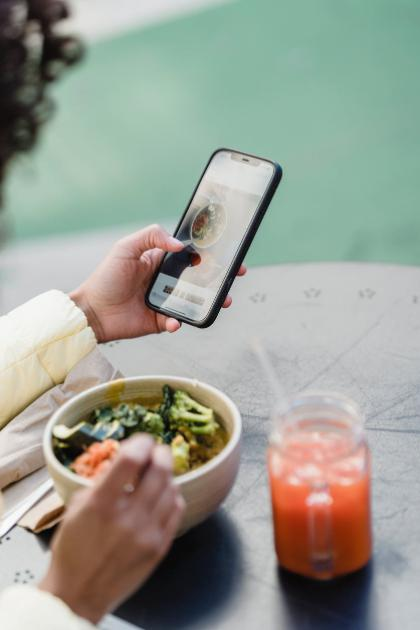mobile: (148, 149, 282, 329)
